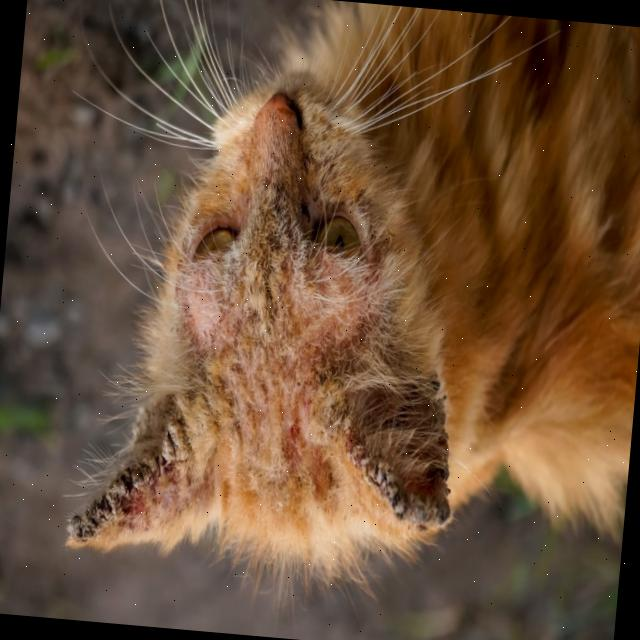cat-scabies: (224, 288, 348, 454), (368, 388, 455, 526), (126, 428, 196, 520), (80, 494, 132, 553)
